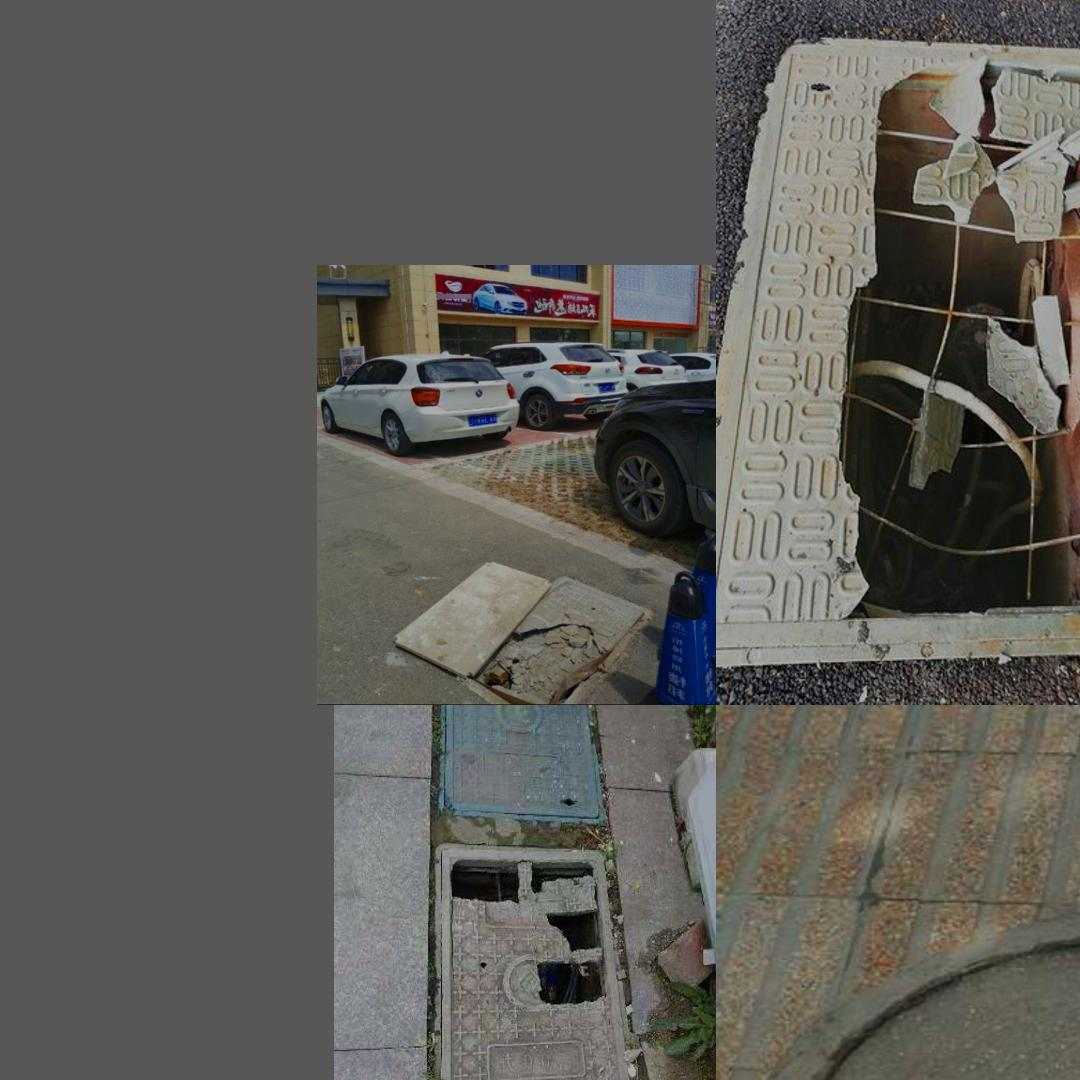broke: (720, 13, 1080, 682), (731, 904, 1080, 1080), (433, 842, 644, 1080), (445, 601, 649, 696)
